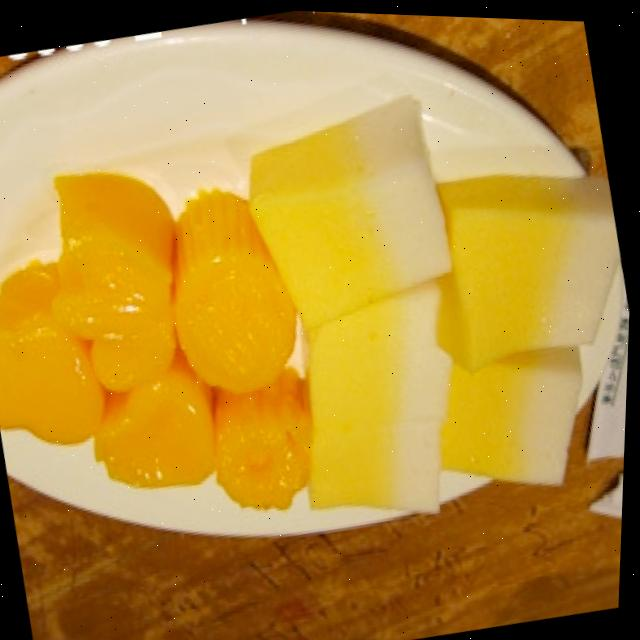蛋糕甜品: (0, 22, 639, 592)
